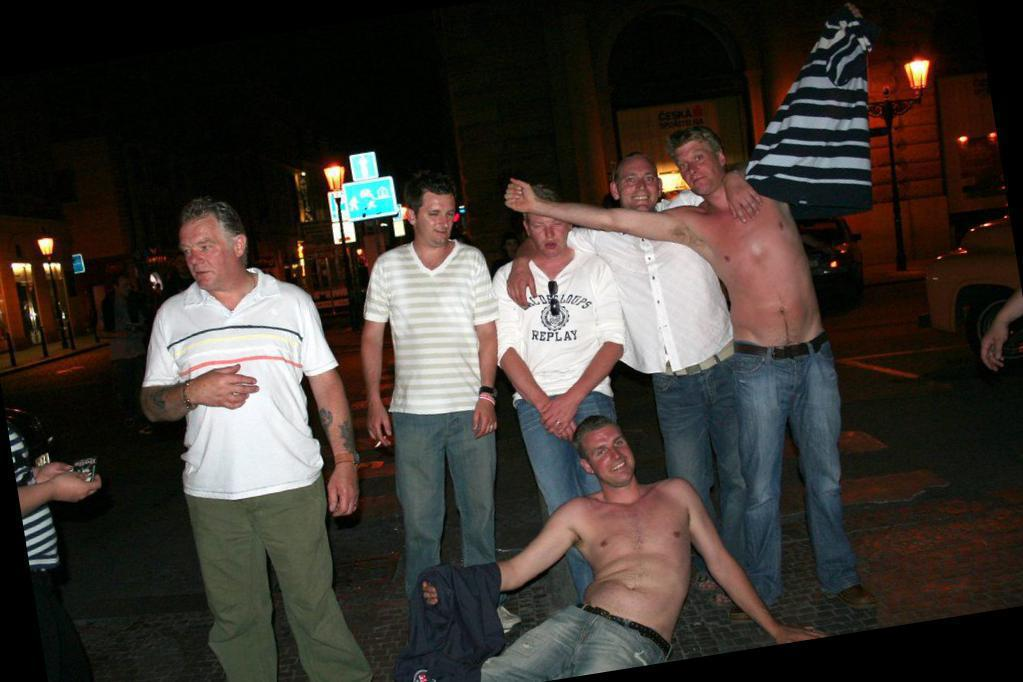Drunk: (178, 210, 228, 296), (589, 430, 636, 484), (526, 197, 570, 254), (679, 137, 720, 194), (618, 163, 661, 212), (425, 192, 459, 243)
